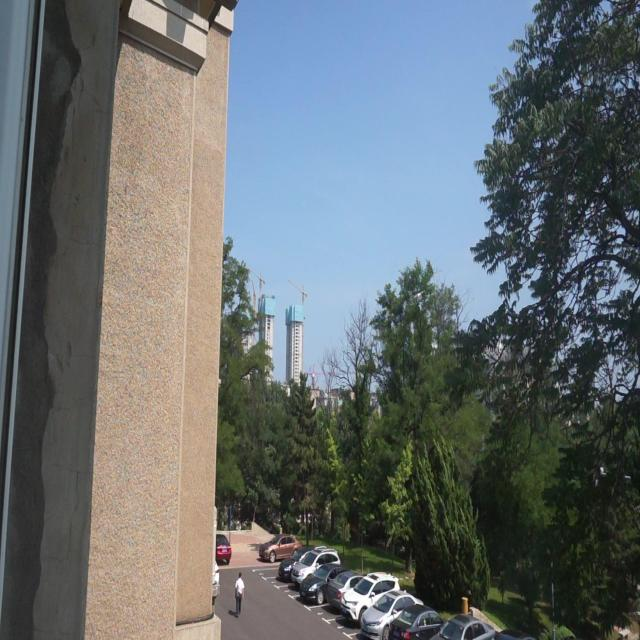drone: (411, 286, 428, 304)
